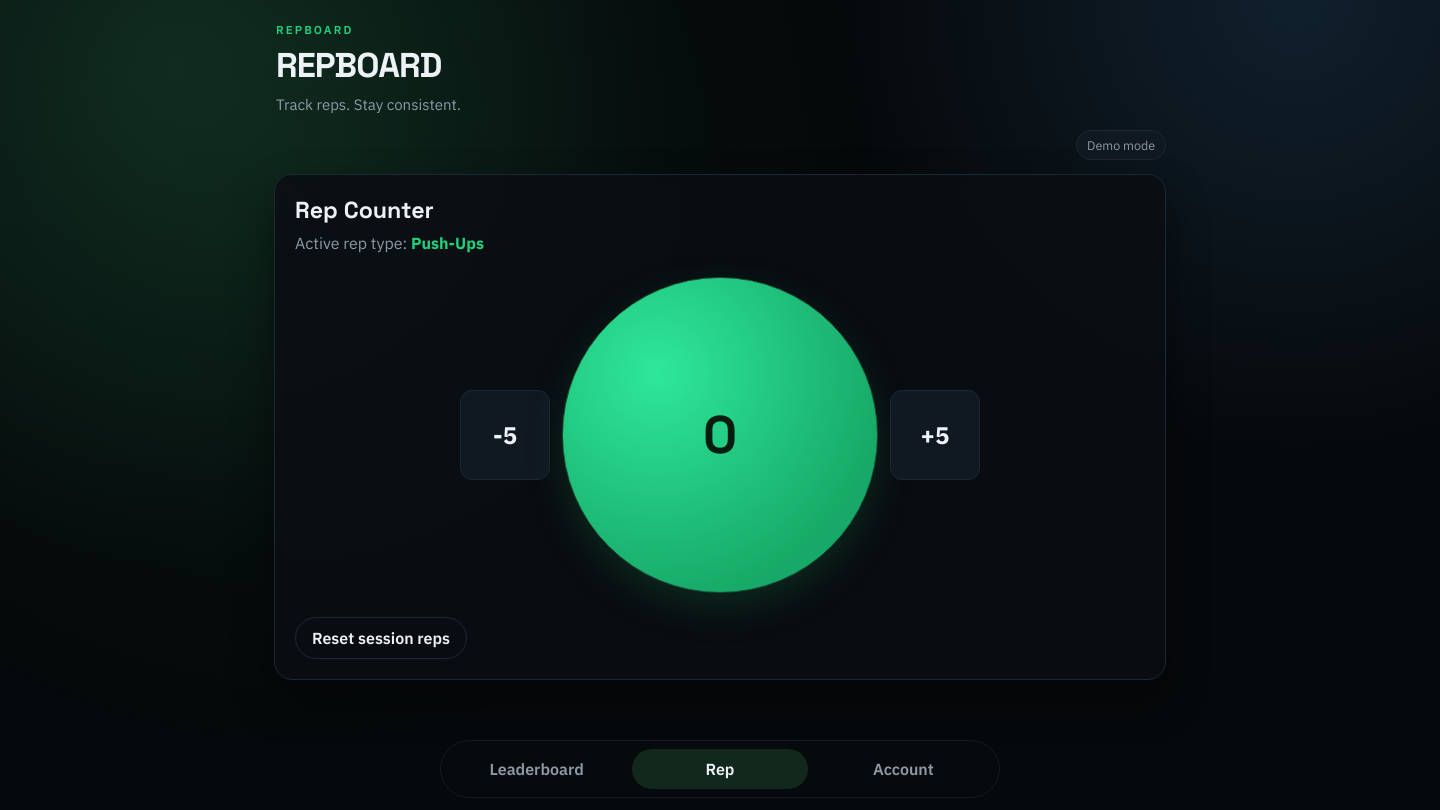
Test case: Rep page interactions › uses +1, +5, and -5 with clamp at zero
Expected: the text with test id "current-rep-count" reads "0", [703, 401, 737, 468]
Click the button named "Add one rep": click(720, 435) [562, 277, 878, 593]
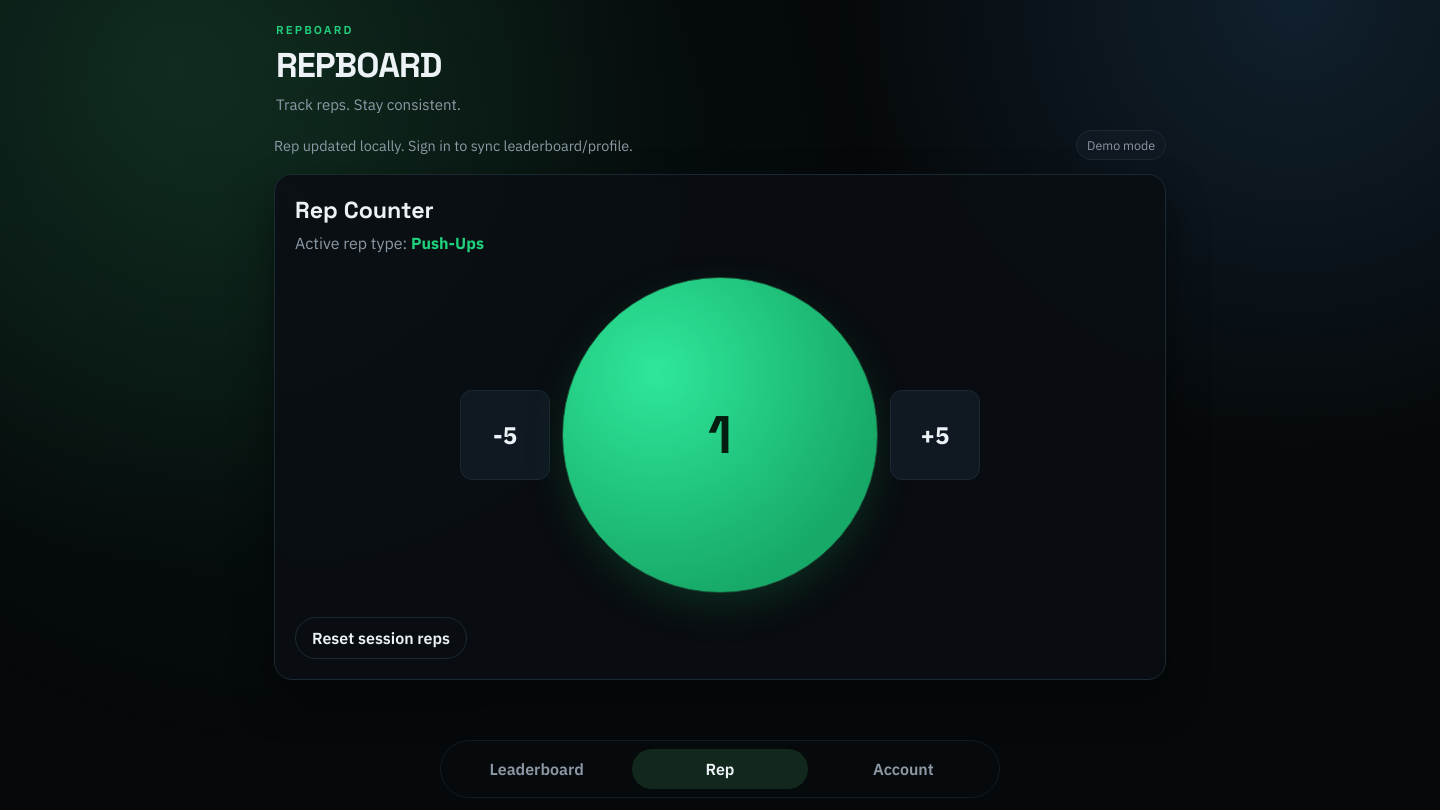
Expected: the text with test id "current-rep-count" reads "1", [708, 401, 732, 468]
Click the button named "Add five reps": click(935, 435) [890, 390, 980, 480]
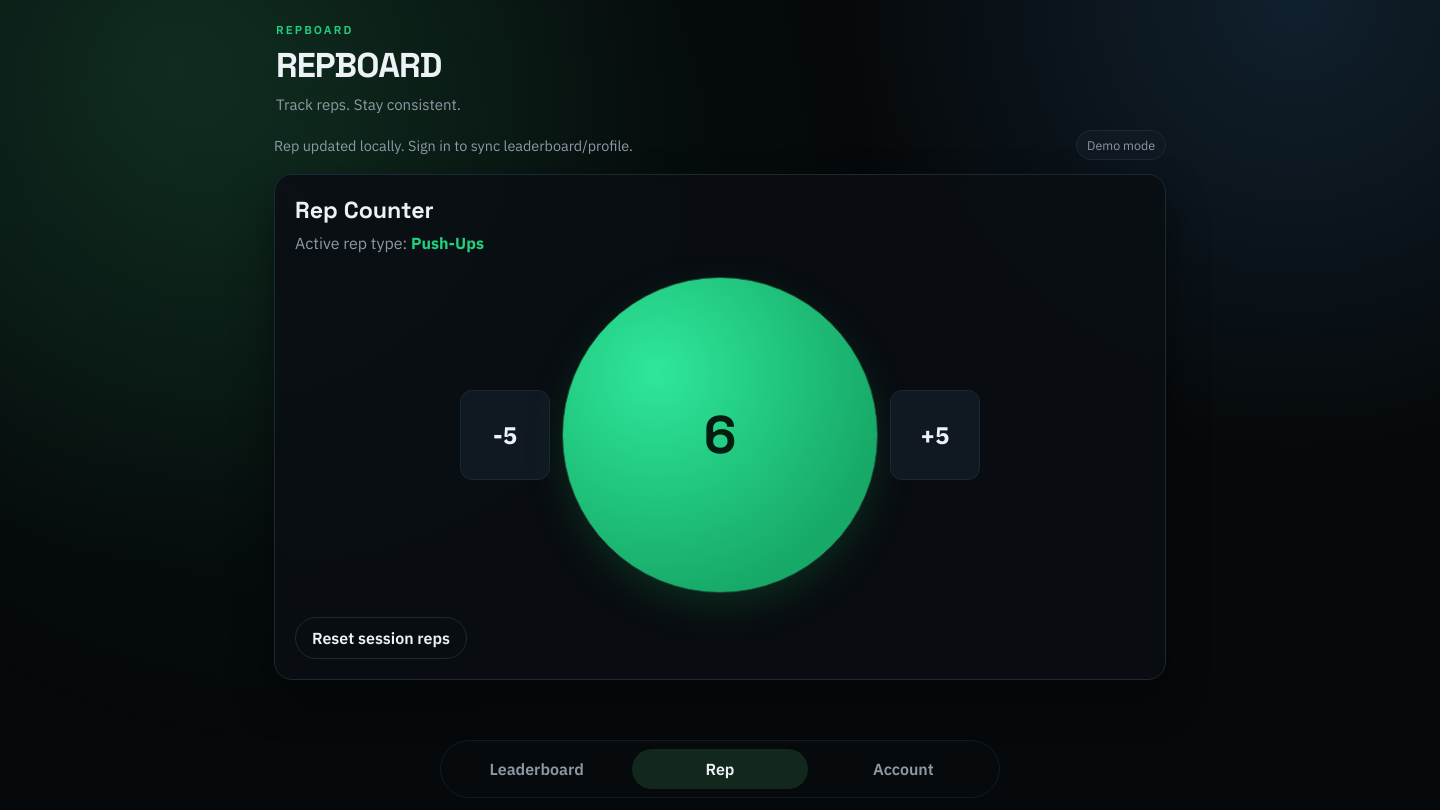
Expected: the text with test id "current-rep-count" reads "6", [704, 401, 736, 468]
Click the button named "Remove five reps": click(505, 435) [460, 390, 550, 480]
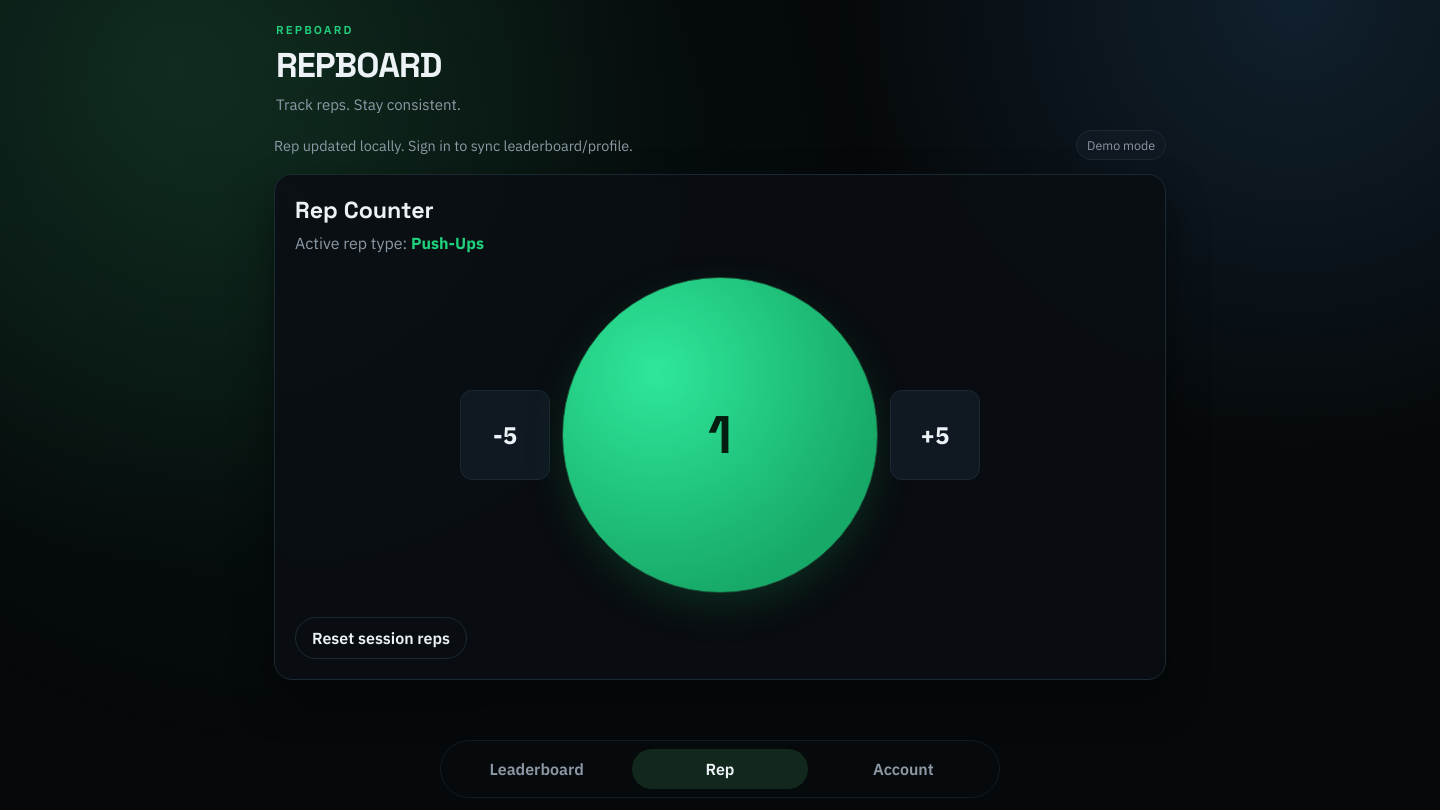
Expected: the text with test id "current-rep-count" reads "1", [708, 401, 732, 468]
Click the button named "Remove five reps": click(505, 435) [460, 390, 550, 480]
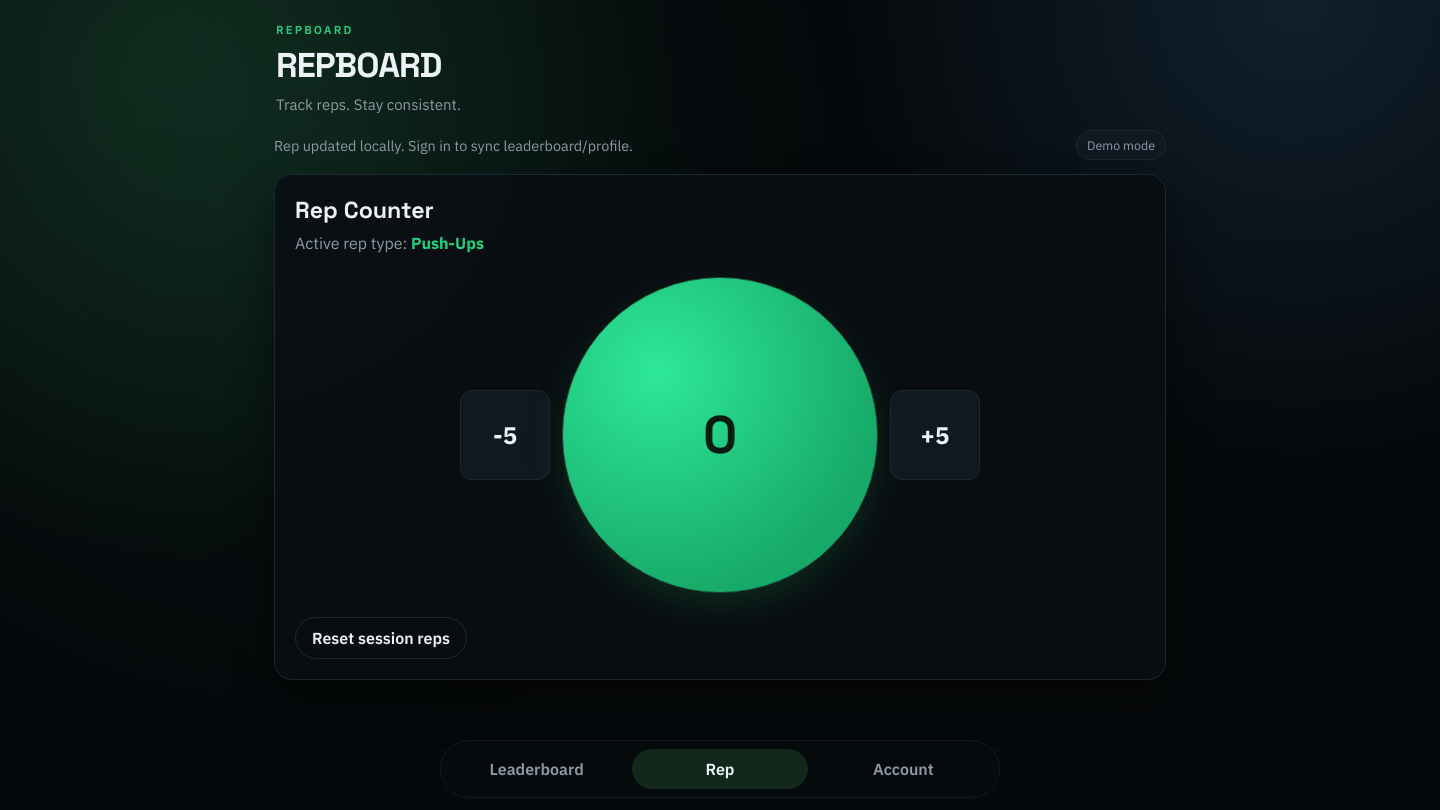
Expected: the text with test id "current-rep-count" reads "0", [703, 401, 737, 468]
